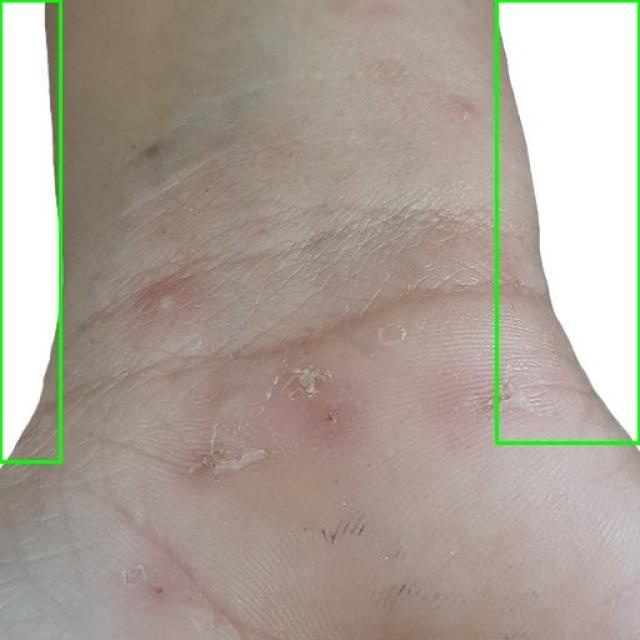Scabies: (496, 0, 639, 444), (0, 0, 60, 461)
